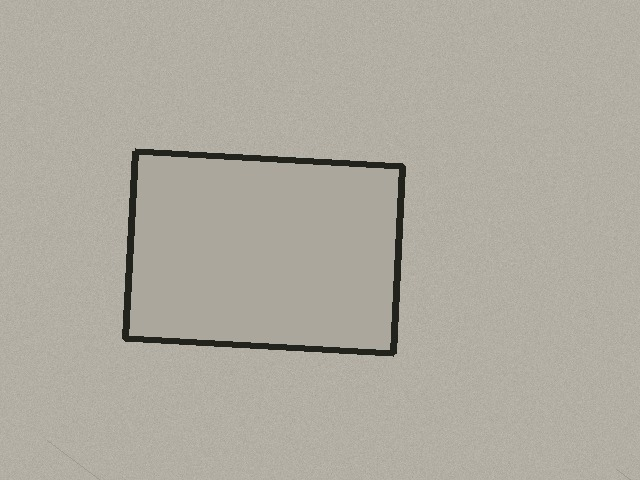parking_area: (125, 151, 402, 353)
